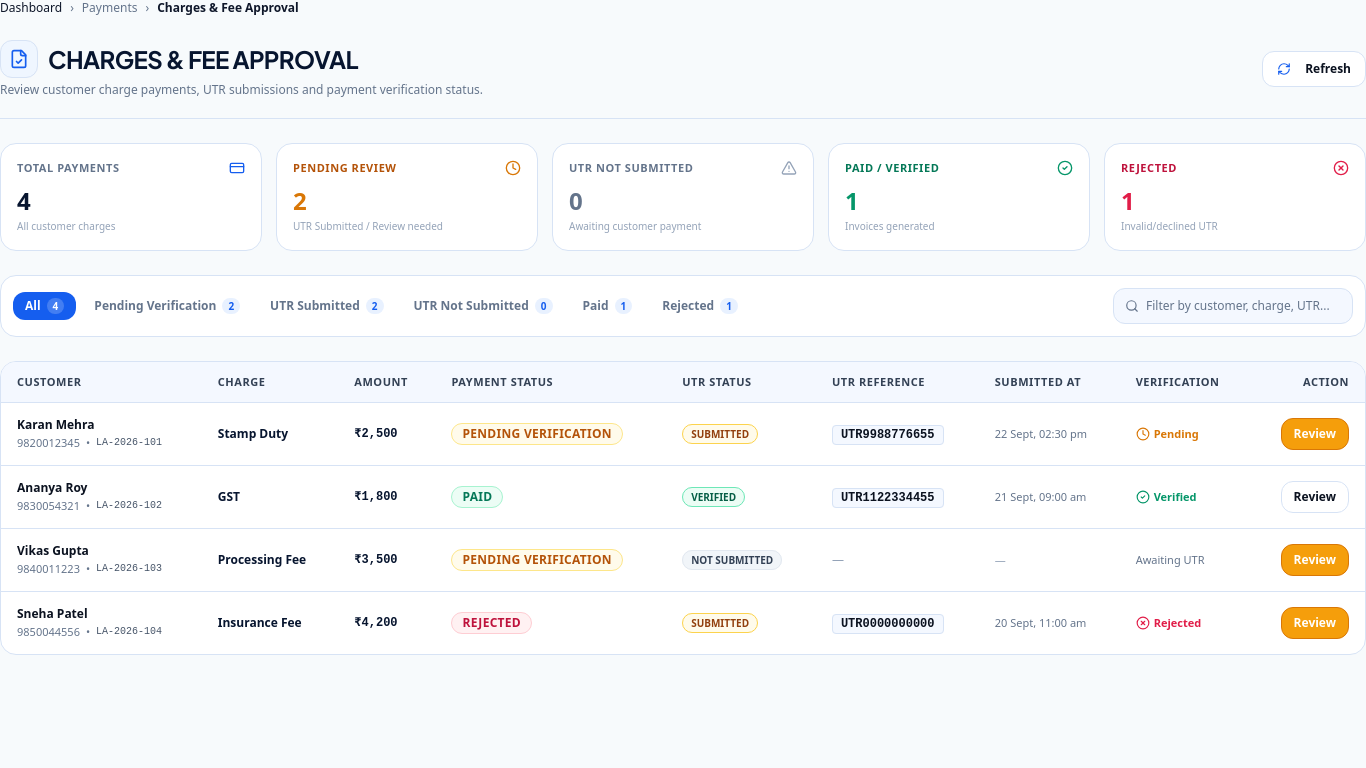
it: Admin Charges & Fee Approval Workflow › TEST 7: Verified charges provide invoice preview and download links in review modal
The image size is (1366, 768).
Check: the text "Ananya Roy" is shown, box [17,479,87,496]
Open Review modal for Ananya Roy (row 1, PAID status)
Click the button "Review" in the row of "Ananya Roy": [1315, 497] box [1281,481,1349,513]
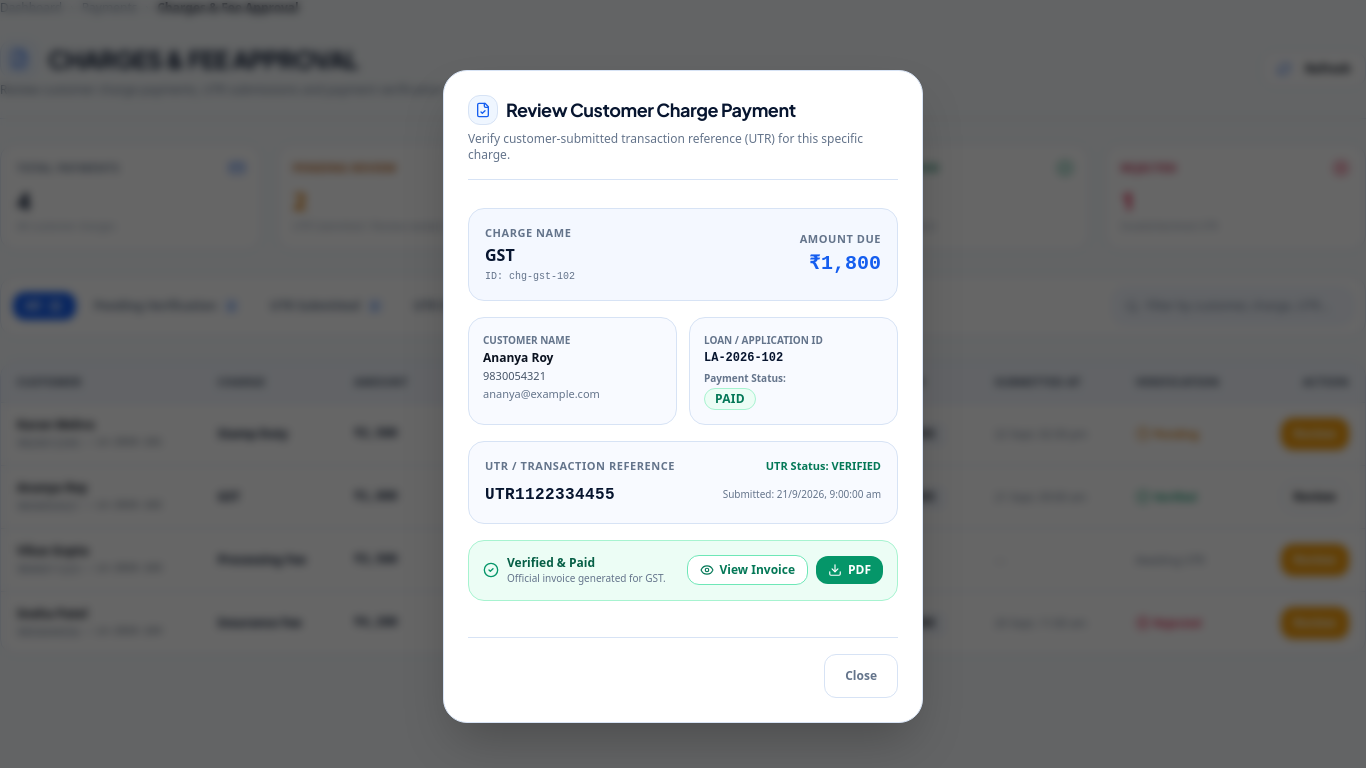
Check: the text "Review Customer Charge Payment" is shown, box [506,96,796,124]
Check: the link "View Invoice" is shown, box [686,555,808,585]
Check: the link "PDF" is shown, box [816,556,883,584]
